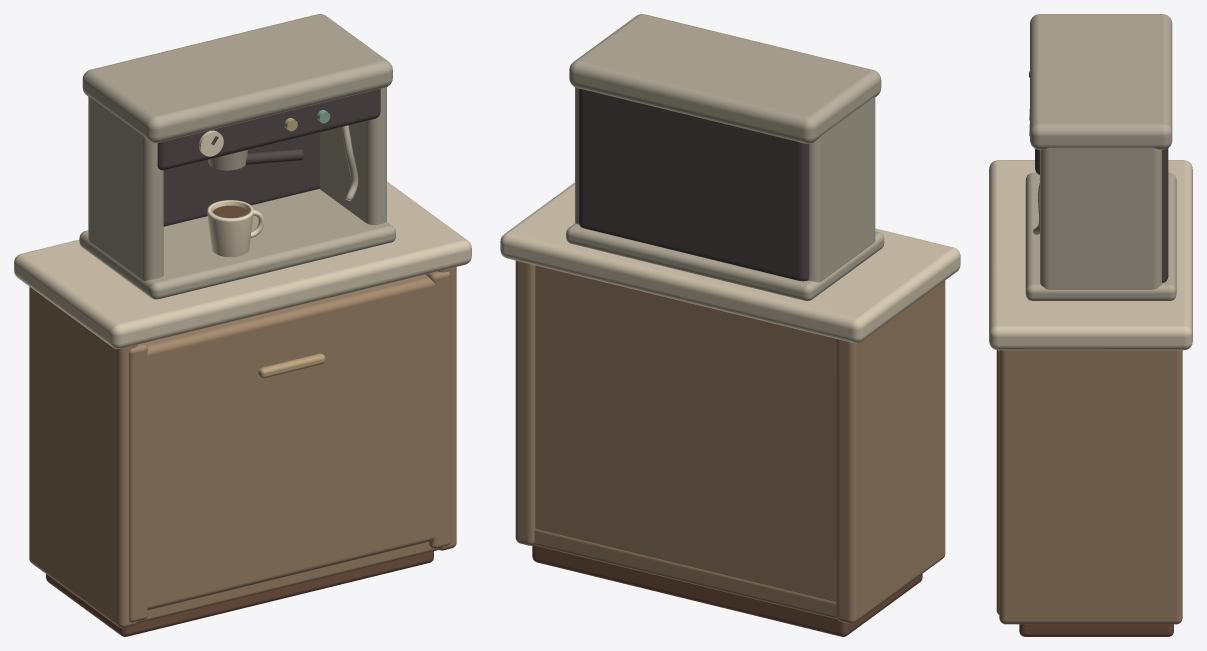
File: coffeecounter.glb
3 renders of one model, left to right at view 1: azimuth 30°, elevation 25°; view 2: azimuth 150°, elevation 25°; view 3: azimuth 270°, elevation 25°, orthographic. The views are drawn at different scales.
Visible parts, largest first — view 1: recessed-cupboard-door, cupboard-case-side--1, stone-worktop, rounded-machine-crown, machine-base-and-drip-tray, machine-side--1, brewing-bay-back, front-control-fascia, machine-side-1, front-stile--1, front-stile-1, recessed-grounded-plinth (+5 smaller); view 2: cupboard-case-back, brewing-bay-back, cupboard-case-side--1, rounded-machine-crown, stone-worktop, machine-side--1, recessed-grounded-plinth, cupboard-case-side-1, machine-base-and-drip-tray, cupboard-case-base; view 3: cupboard-case-side-1, rounded-machine-crown, stone-worktop, machine-side-1, machine-base-and-drip-tray, recessed-grounded-plinth, front-stile-1, brewing-bay-back.
Part boxes in pixels (<box>): recessed-cupboard-door: <box>144,274,435,610</box>; cupboard-case-side--1: <box>29,286,137,628</box>; stone-worktop: <box>14,181,471,349</box>; rounded-machine-crown: <box>82,14,392,143</box>; machine-base-and-drip-tray: <box>79,189,395,299</box>; machine-side--1: <box>88,96,163,280</box>; brewing-bay-back: <box>163,132,319,226</box>; front-control-fascia: <box>157,89,380,170</box>; machine-side-1: <box>319,87,386,224</box>; front-stile--1: <box>129,343,147,622</box>; front-stile-1: <box>425,271,450,548</box>; recessed-grounded-plinth: <box>46,551,433,636</box>; cupboard-case-back: <box>535,265,836,601</box>; brewing-bay-back: <box>578,88,809,281</box>; cupboard-case-side--1: <box>836,280,945,623</box>; rounded-machine-crown: <box>569,14,881,143</box>; stone-worktop: <box>500,182,960,343</box>; machine-side--1: <box>808,97,875,282</box>; recessed-grounded-plinth: <box>532,545,922,636</box>; cupboard-case-side-1: <box>515,260,535,545</box>; machine-base-and-drip-tray: <box>566,223,884,300</box>; cupboard-case-base: <box>534,529,836,618</box>; cupboard-case-side-1: <box>999,350,1182,624</box>; rounded-machine-crown: <box>1030,14,1172,149</box>; stone-worktop: <box>989,160,1192,350</box>; machine-side-1: <box>1040,147,1162,289</box>; machine-base-and-drip-tray: <box>1025,172,1176,300</box>; recessed-grounded-plinth: <box>1019,624,1173,636</box>; front-stile-1: <box>996,350,999,614</box>; brewing-bay-back: <box>1162,148,1168,282</box>.
Size of the model in its own units: 1 by 1.34 by 0.5.
